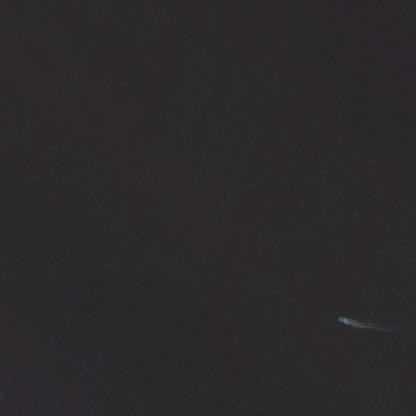ship: (342, 314, 345, 326)
